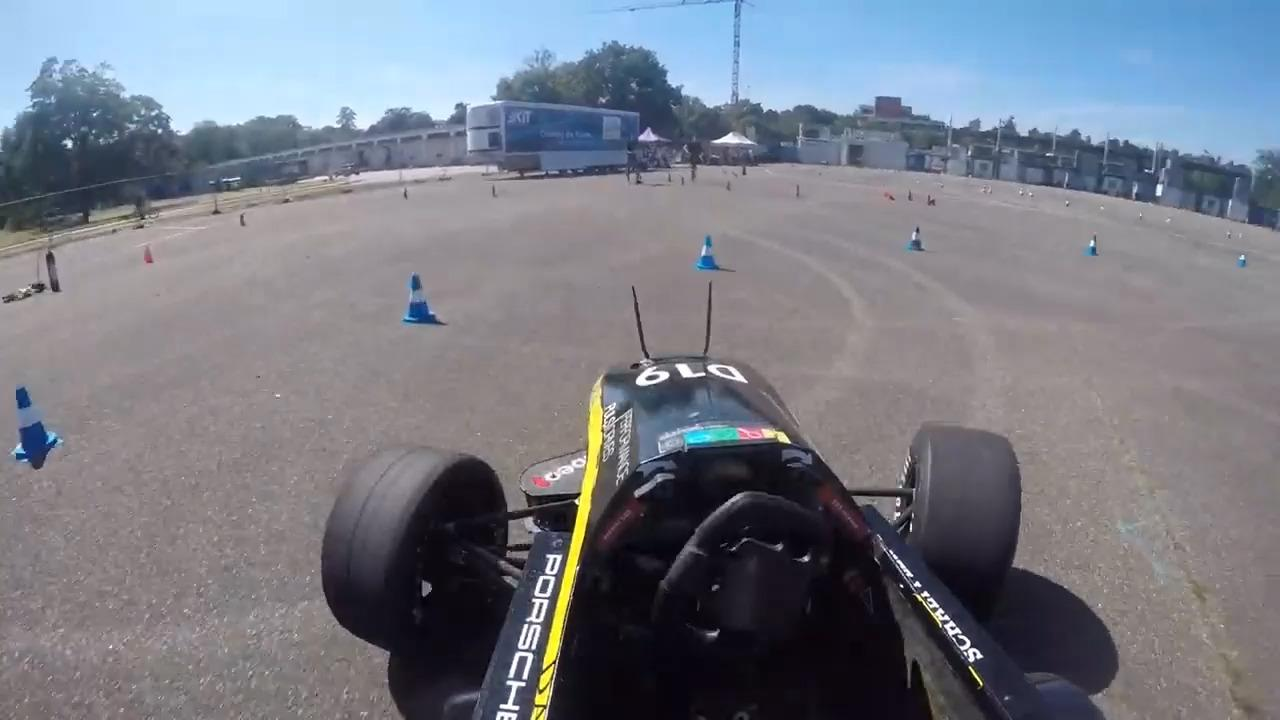blue_cone: (13, 382, 62, 463), (401, 272, 438, 324), (694, 233, 721, 270), (906, 226, 927, 253), (1084, 234, 1101, 257)
